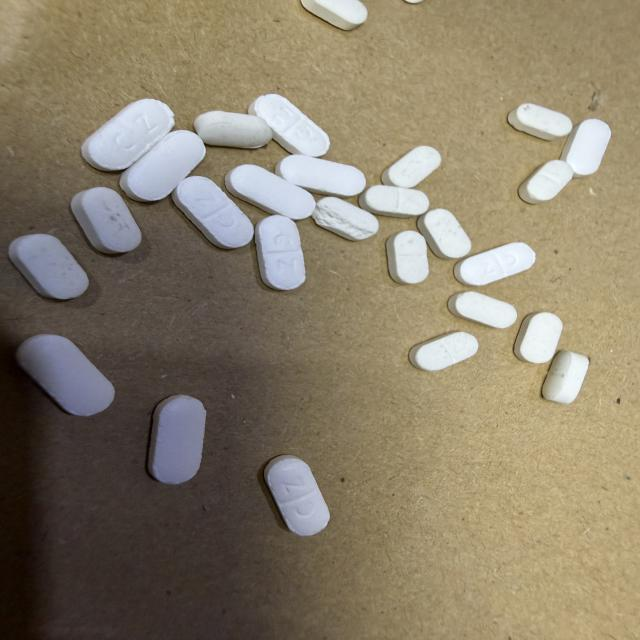pill: (17, 335, 114, 416), (82, 99, 174, 170), (120, 130, 205, 201), (172, 177, 253, 248), (264, 455, 329, 535), (9, 234, 88, 299), (149, 395, 206, 484), (249, 94, 329, 156), (225, 165, 315, 219), (71, 187, 141, 253), (276, 155, 365, 197), (256, 216, 305, 290), (454, 243, 535, 285), (561, 119, 611, 177), (194, 111, 272, 148), (312, 197, 378, 240), (409, 332, 478, 370), (418, 209, 471, 258), (448, 292, 517, 328), (382, 146, 441, 188), (514, 313, 562, 363), (543, 351, 589, 403), (519, 160, 573, 204), (508, 104, 572, 140), (387, 231, 428, 284), (359, 186, 429, 217), (302, 0, 367, 30), (405, 0, 422, 3)
